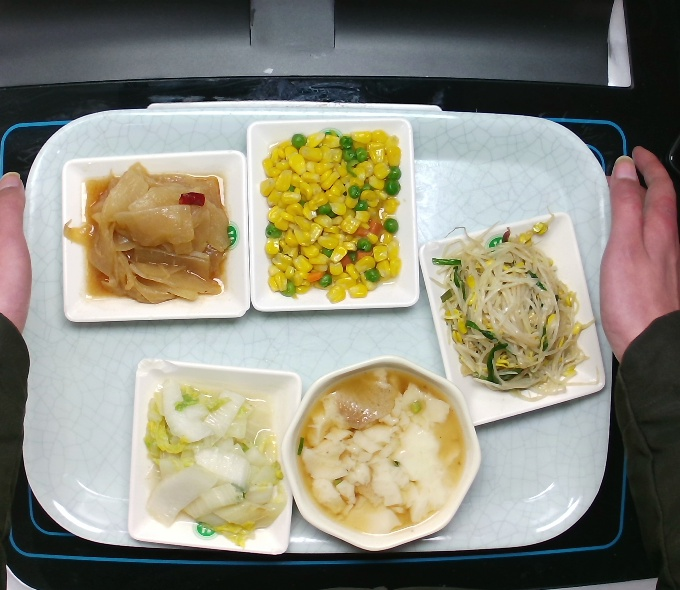wcq-DaBaiCai: (140, 376, 289, 550)
wcq-DongGua: (60, 160, 234, 306)
wcq-DouYa: (429, 206, 605, 406)
wcq-ShuiZhengDan: (290, 364, 472, 537)
wcq-TianMiTianDou: (255, 124, 407, 307)
